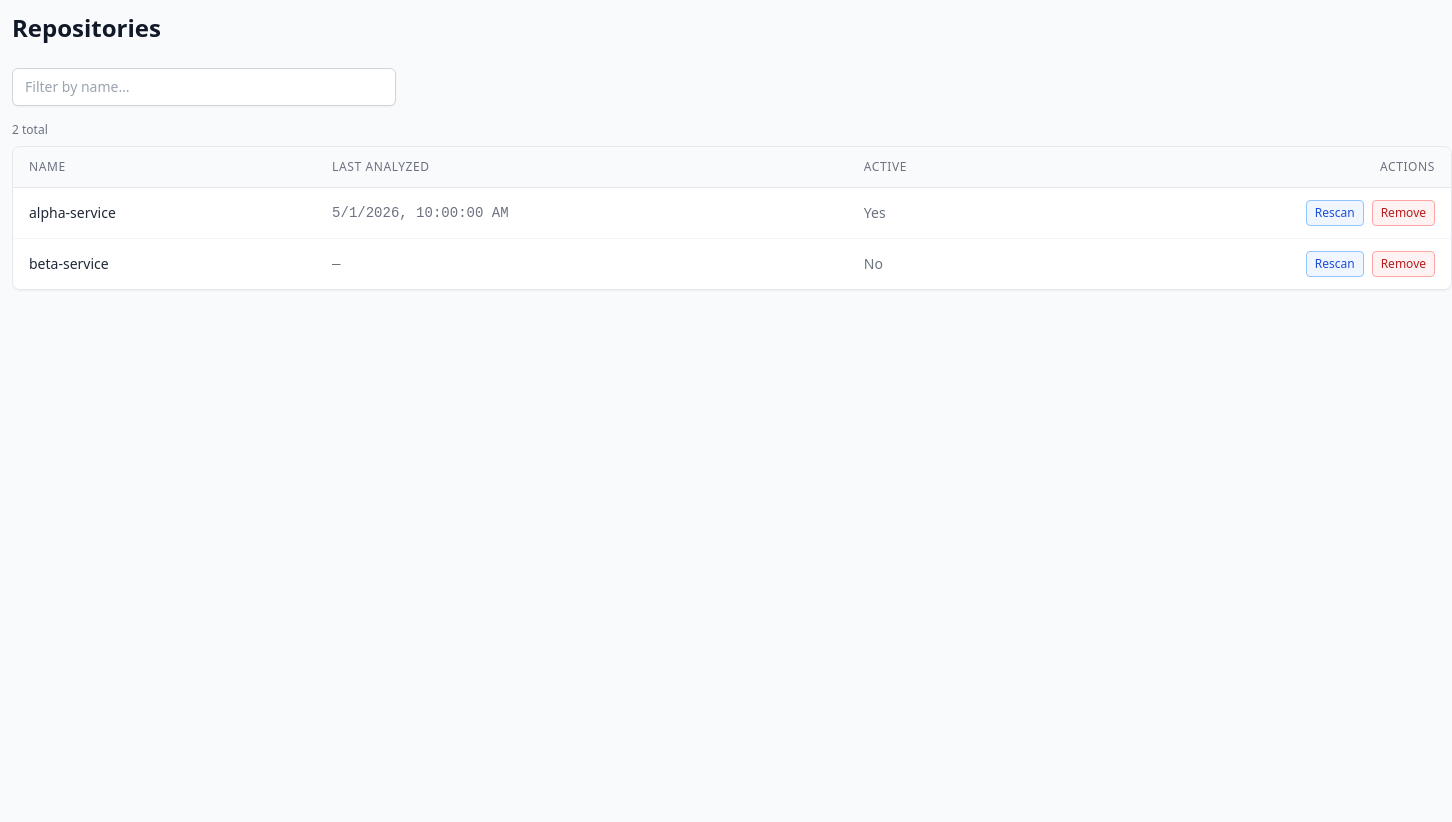
Test: RepositoriesPage › shows error toast when Rescan fails
Click the button "Rescan" in the row of "alpha-service" at (1335, 213), box [1306,200,1364,226]
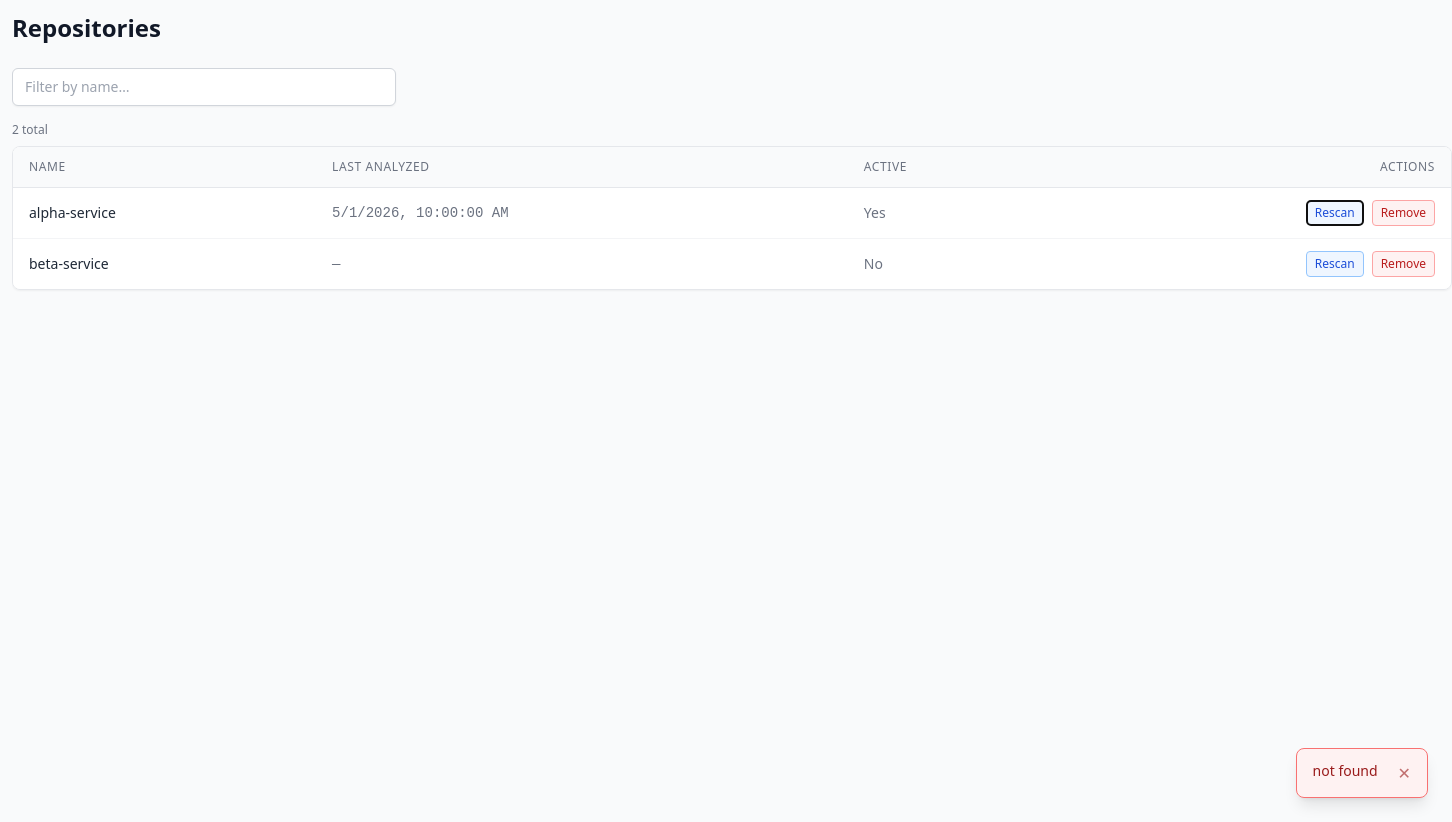
Check: the message shows "not found", box [1313,761,1378,780]
